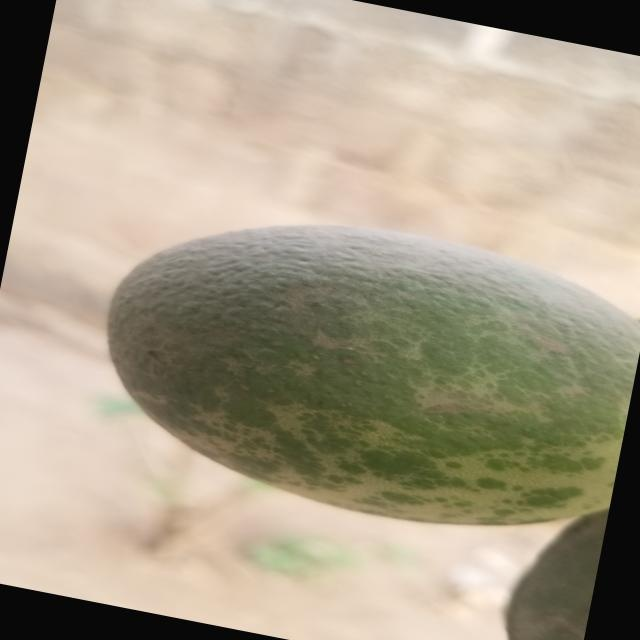agrume: (80, 183, 640, 561)
